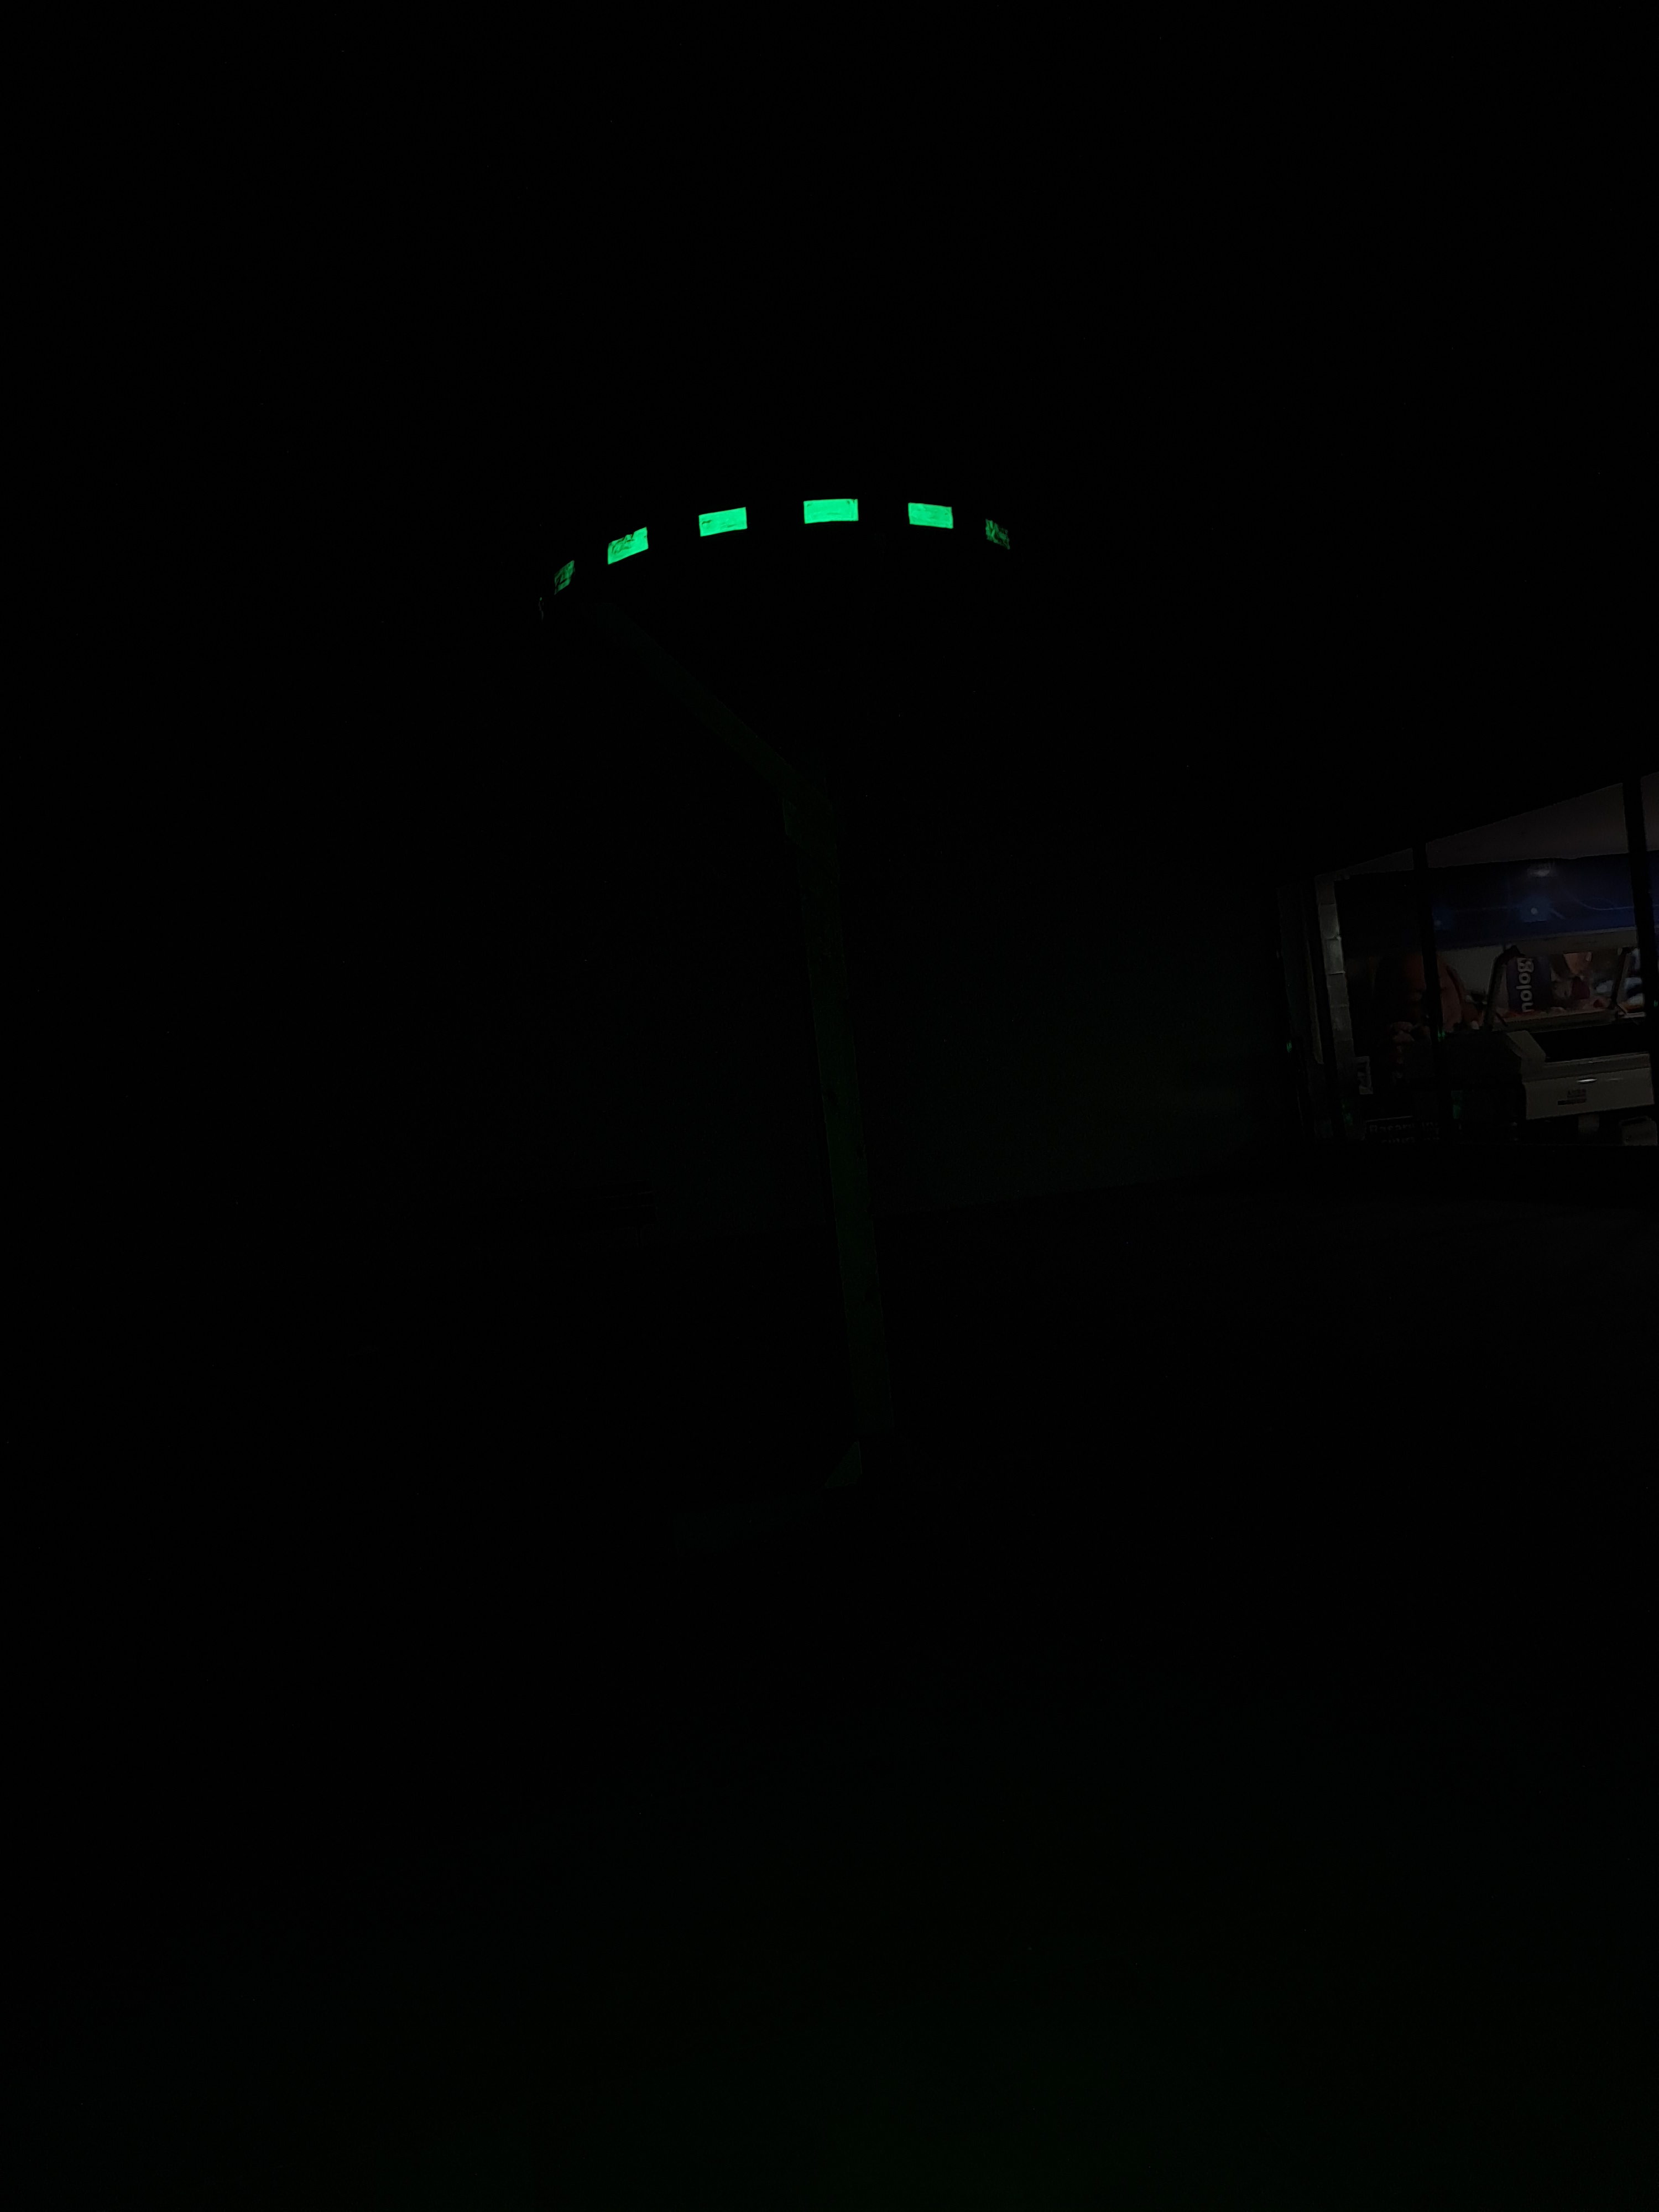hoop: (512, 465, 1058, 620)
